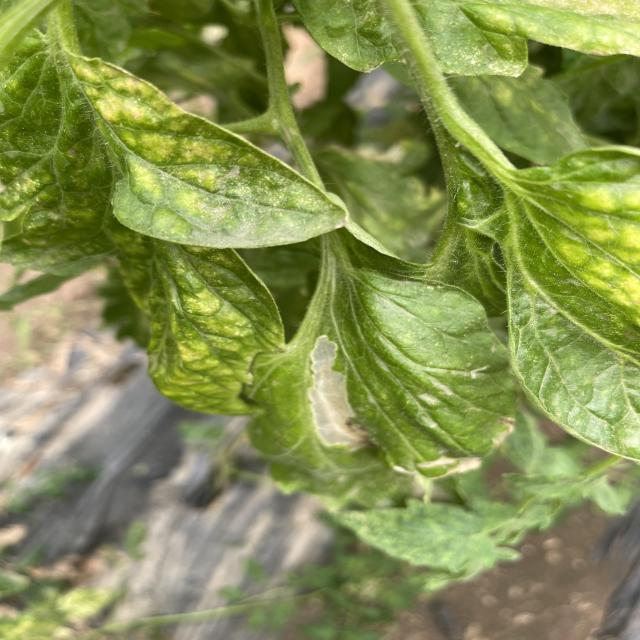Tuta absoluta: (286, 331, 372, 460)
